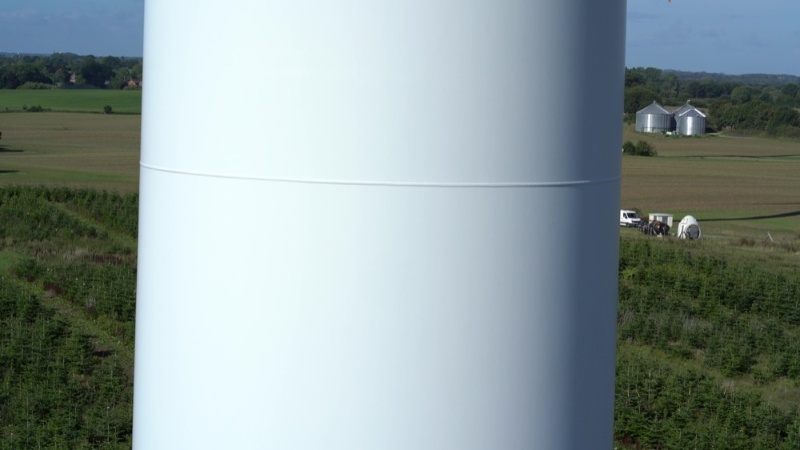weldseam: (136, 157, 622, 197)
